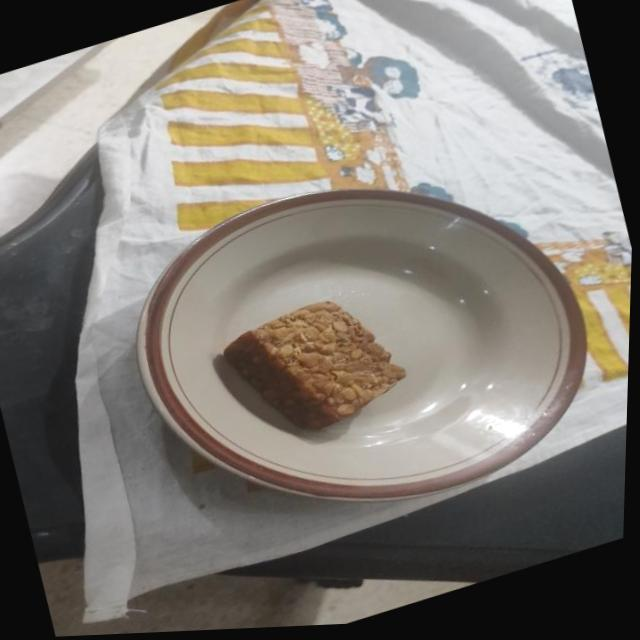tempe_goreng: (224, 301, 406, 430)
